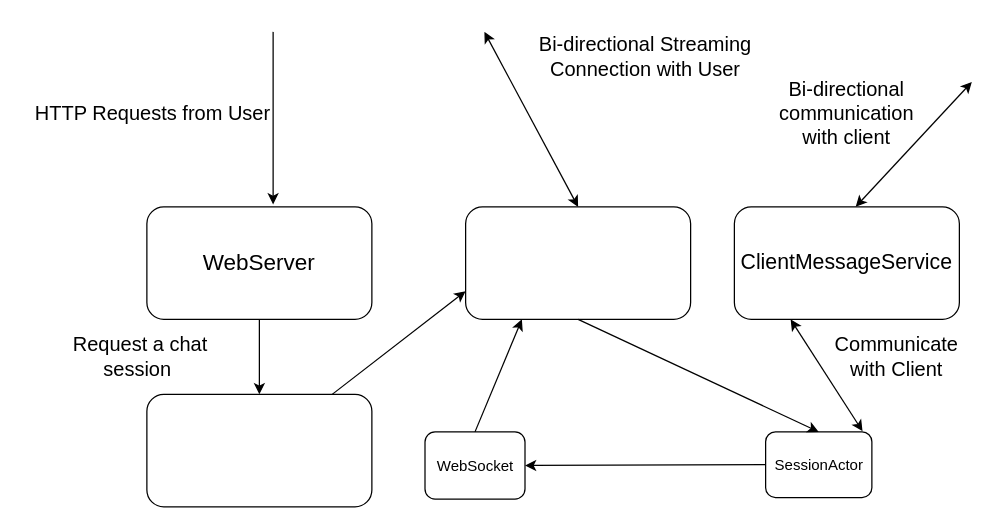
Some shapes in this 1005 by 529 pixel diagram are drawn without their labels. The shapes that lost their labels are listed below. From the top down, each one's box as (x1, y1, x2, y2) in pixels, then its label:
(464, 206, 691, 319): ChatSession
(146, 393, 372, 507): ChatSessionMap
